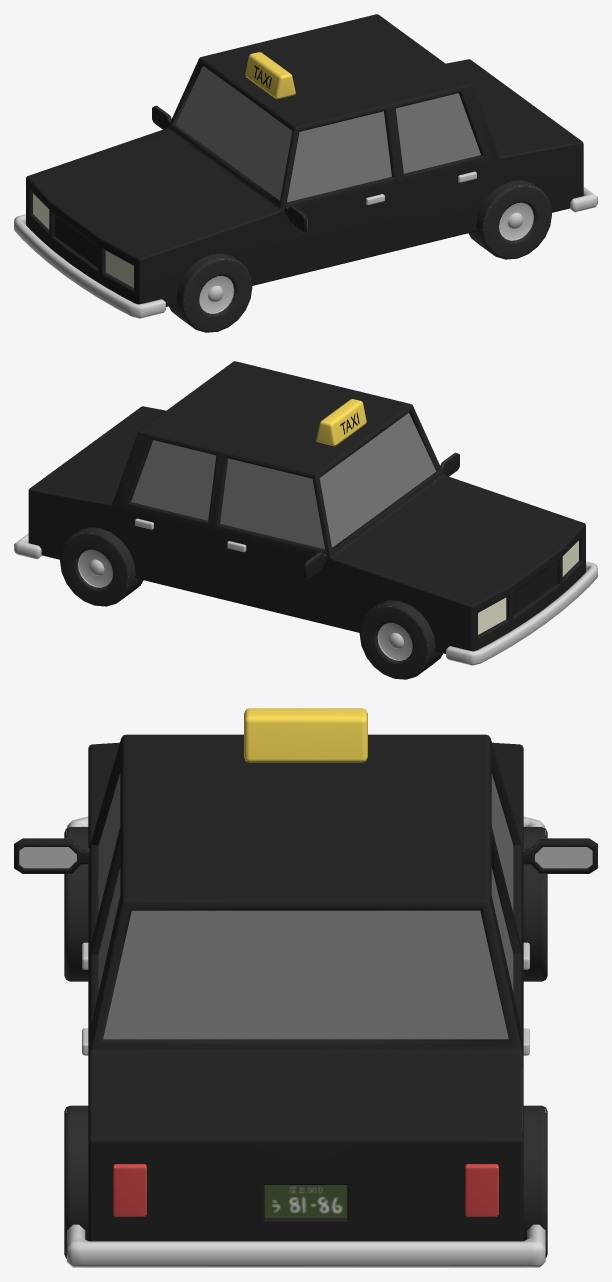
Rendered from Taxi.obj.
3 renders of one model, top to bottom at view 1: azimuth 30°, elevation 25°; view 2: azimuth 150°, elevation 25°; view 3: azimuth 270°, elevation 25°, orthographic. The views are drawn at different scales.
Visible parts, largest first — view 1: Taxi_MainSG, Taxi_Glass13SG, Taxi_Wheel2SG, Taxi_Wheel1SG, Taxi_FrontSG, Taxi_SignSG, Taxi_BackSG; view 2: Taxi_MainSG, Taxi_Glass13SG, Taxi_Wheel3SG, Taxi_Wheel4SG, Taxi_FrontSG, Taxi_SignSG, Taxi_BackSG; view 3: Taxi_MainSG, Taxi_Glass13SG, Taxi_BackSG, Taxi_SignSG, Taxi_Wheel3SG, Taxi_Wheel2SG, Taxi_Wheel1SG, Taxi_Wheel4SG, Taxi_SideMirror1SG, Taxi_SideMirror2SG, Taxi_BackLight2SG, Taxi_BackLight1SG.
Boxes of the visible parts, left/top/right/bottom form: Taxi_MainSG: left=26, top=14, right=583, bottom=306; Taxi_Glass13SG: left=175, top=66, right=480, bottom=202; Taxi_Wheel2SG: left=468, top=180, right=551, bottom=259; Taxi_Wheel1SG: left=169, top=253, right=252, bottom=332; Taxi_FrontSG: left=14, top=214, right=165, bottom=318; Taxi_SignSG: left=245, top=52, right=295, bottom=98; Taxi_BackSG: left=570, top=187, right=597, bottom=212; Taxi_MainSG: left=28, top=361, right=585, bottom=653; Taxi_Glass13SG: left=131, top=413, right=436, bottom=549; Taxi_Wheel3SG: left=60, top=527, right=143, bottom=606; Taxi_Wheel4SG: left=359, top=600, right=442, bottom=679; Taxi_FrontSG: left=446, top=561, right=597, bottom=665; Taxi_SignSG: left=316, top=399, right=366, bottom=446; Taxi_BackSG: left=14, top=533, right=41, bottom=559; Taxi_MainSG: left=88, top=734, right=523, bottom=1241; Taxi_Glass13SG: left=98, top=773, right=513, bottom=1039; Taxi_BackSG: left=67, top=1224, right=545, bottom=1267; Taxi_SignSG: left=244, top=708, right=367, bottom=762; Taxi_Wheel3SG: left=523, top=1105, right=547, bottom=1258; Taxi_Wheel2SG: left=64, top=1105, right=88, bottom=1258; Taxi_Wheel1SG: left=64, top=827, right=88, bottom=981; Taxi_Wheel4SG: left=523, top=827, right=547, bottom=981; Taxi_SideMirror1SG: left=14, top=838, right=89, bottom=873; Taxi_SideMirror2SG: left=522, top=838, right=597, bottom=873; Taxi_BackLight2SG: left=465, top=1164, right=498, bottom=1216; Taxi_BackLight1SG: left=113, top=1164, right=146, bottom=1216.
Bounding box in the file's own units: 26.33 × 10.35 × 14.78.
17 materials, 17 textured.
